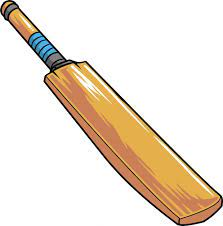bottom left: (162, 204, 183, 226)
bottom right: (209, 191, 223, 205)
top left: (33, 69, 56, 92)
top right: (74, 56, 95, 77)
